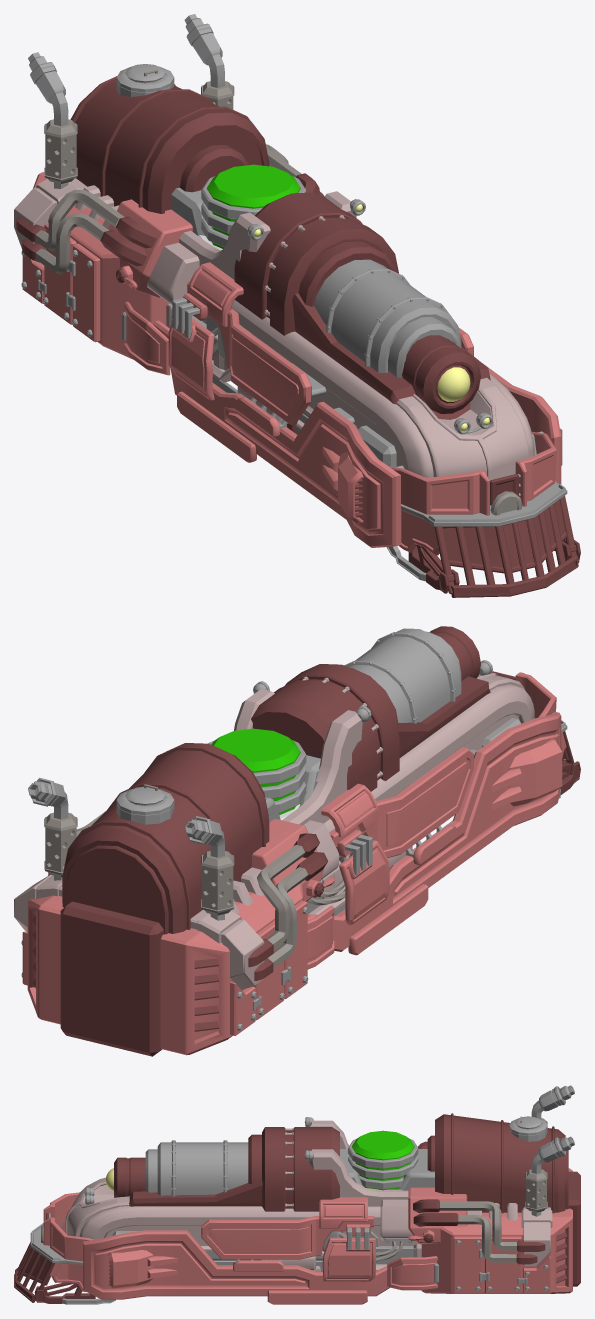
Rendered from nuclear_engine_test_import_v008.fbx.
3 views of the same model, one above another, from view 1: azimuth 30°, elevation 25°; view 2: azimuth 150°, elevation 25°; view 3: azimuth 270°, elevation 25° (orthographic). The views are drawn at different scales.
Visible parts, largest first — view 1: pCylinder39, pCube50, pCube160, pCylinder36, pCylinder35, pCube207, pCube162, pCube204, pCube43, pCylinder29, polySurface65, pCube198 (+33 smaller); view 2: pCylinder39, pCube81, pCube43, pCube160, pCylinder36, pCube207, pCube50, pCylinder35, pCube54, pCube41, polySurface64, pCylinder40 (+26 smaller); view 3: pCube160, pCylinder39, pCylinder36, pCube50, pCube207, pCylinder35, pCube43, polySurface65, pCube54, pCube74, pCube162, pCylinder40 (+38 smaller).
Part boxes in pixels (x1,y1,x2,y2): pCylinder39: [70, 81, 269, 213]; pCube50: [212, 300, 534, 507]; pCube160: [153, 320, 561, 547]; pCylinder36: [234, 192, 398, 335]; pCylinder35: [314, 259, 461, 372]; pCube207: [187, 281, 473, 424]; pCube162: [389, 431, 556, 515]; pCube204: [434, 496, 579, 594]; pCube43: [33, 172, 168, 359]; pCylinder29: [402, 335, 480, 413]; polySurface65: [292, 293, 490, 419]; pCube198: [440, 499, 567, 573]; pCylinder39: [62, 743, 269, 934]; pCube81: [60, 901, 163, 1056]; pCube43: [27, 883, 303, 1055]; pCube160: [307, 711, 561, 951]; pCylinder36: [251, 664, 399, 791]; pCube207: [329, 747, 473, 857]; pCube50: [309, 672, 534, 914]; pCylinder35: [348, 628, 461, 722]; pCube54: [234, 689, 362, 825]; pCube41: [14, 875, 264, 989]; polySurface64: [44, 812, 234, 915]; pCylinder40: [211, 728, 300, 814]; pCube160: [83, 1230, 389, 1299]; pCylinder39: [427, 1114, 568, 1212]; pCylinder36: [248, 1127, 339, 1211]; pCube50: [65, 1177, 387, 1270]; pCube207: [201, 1216, 374, 1259]; pCylinder35: [157, 1142, 248, 1195]; pCube43: [421, 1168, 572, 1293]; polySurface65: [129, 1180, 262, 1206]; pCube54: [308, 1120, 408, 1206]; pCube74: [322, 1237, 375, 1281]; pCube162: [43, 1192, 93, 1261]; pCylinder40: [352, 1130, 414, 1190].
Size of the model in its own units: 52.69 by 53.18 by 160.
